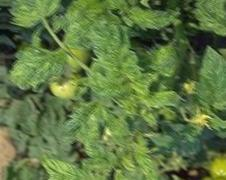Tomato leaf yellow virus: (85, 14, 140, 87), (4, 40, 68, 96), (133, 37, 188, 99), (189, 42, 226, 119), (119, 0, 182, 38), (3, 0, 61, 32), (35, 153, 101, 179), (190, 4, 226, 38)
